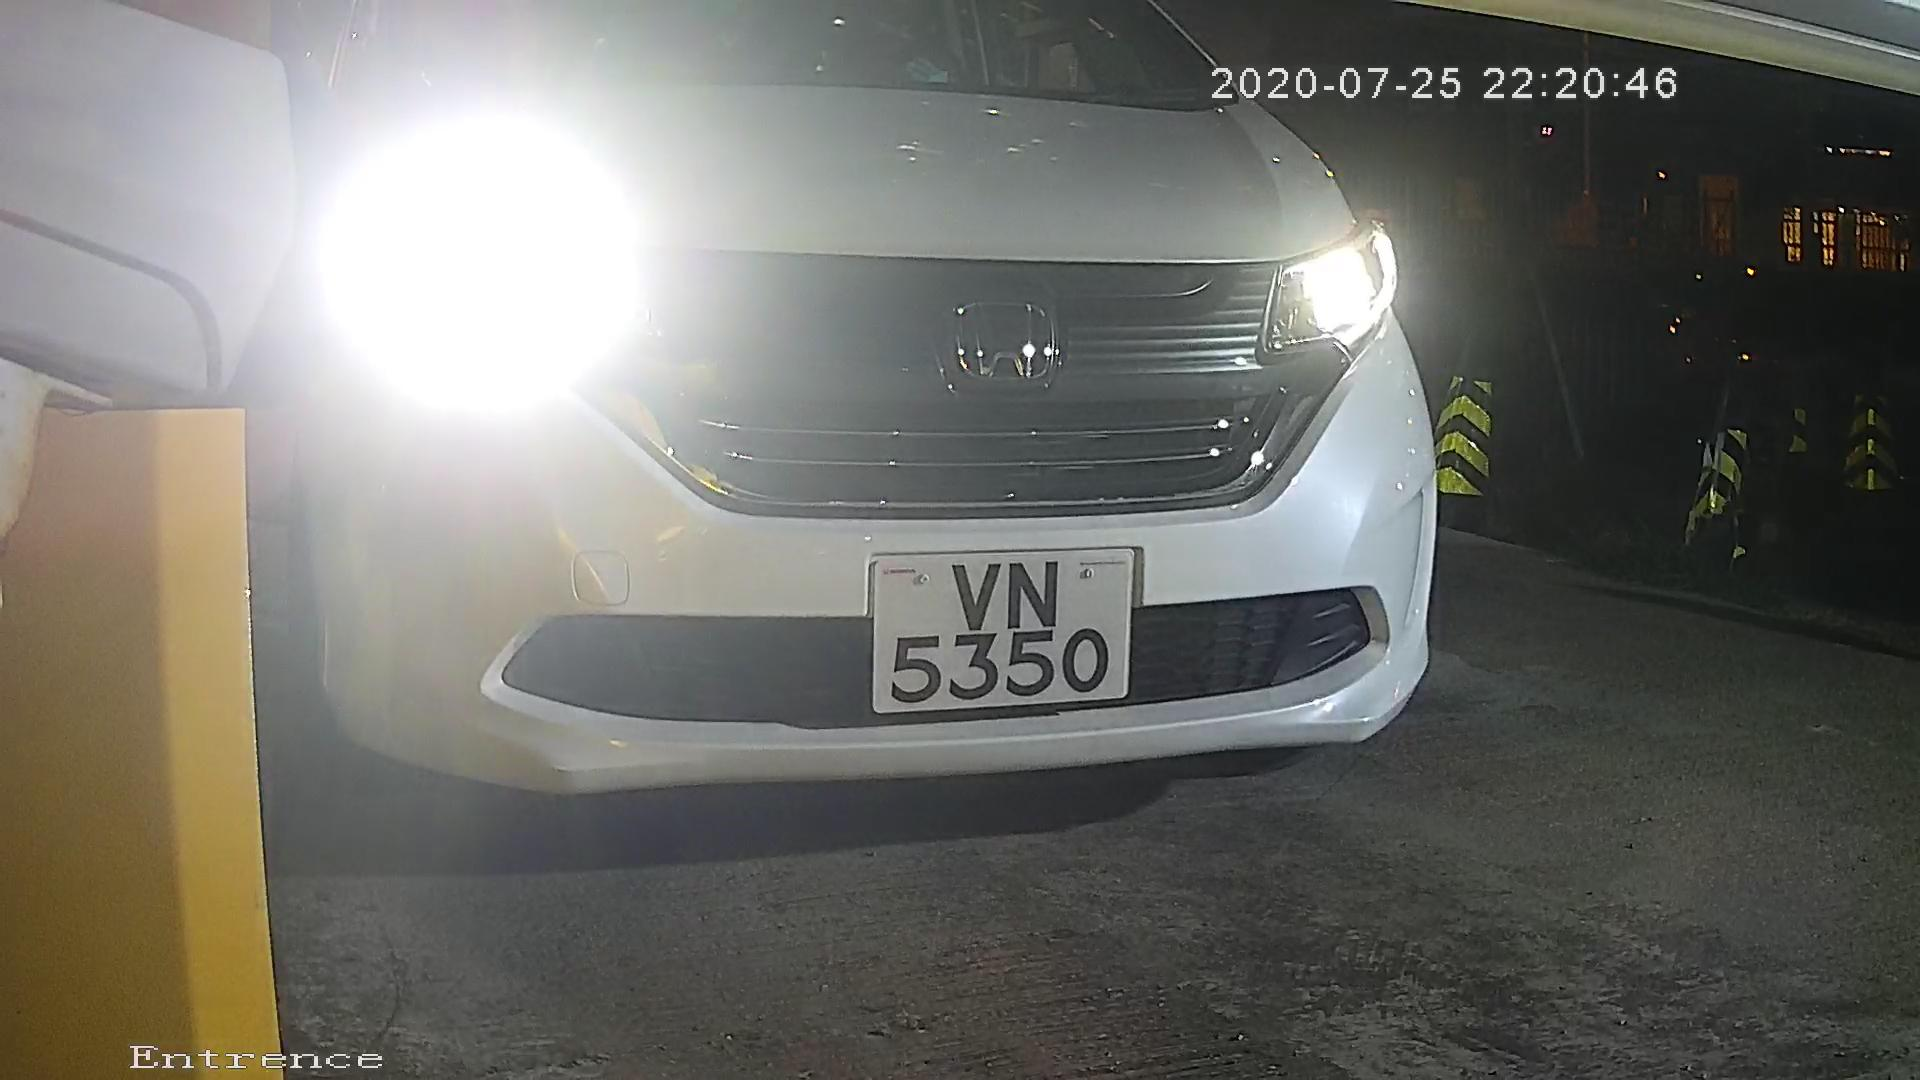License Plate: (841, 531, 1158, 738)
